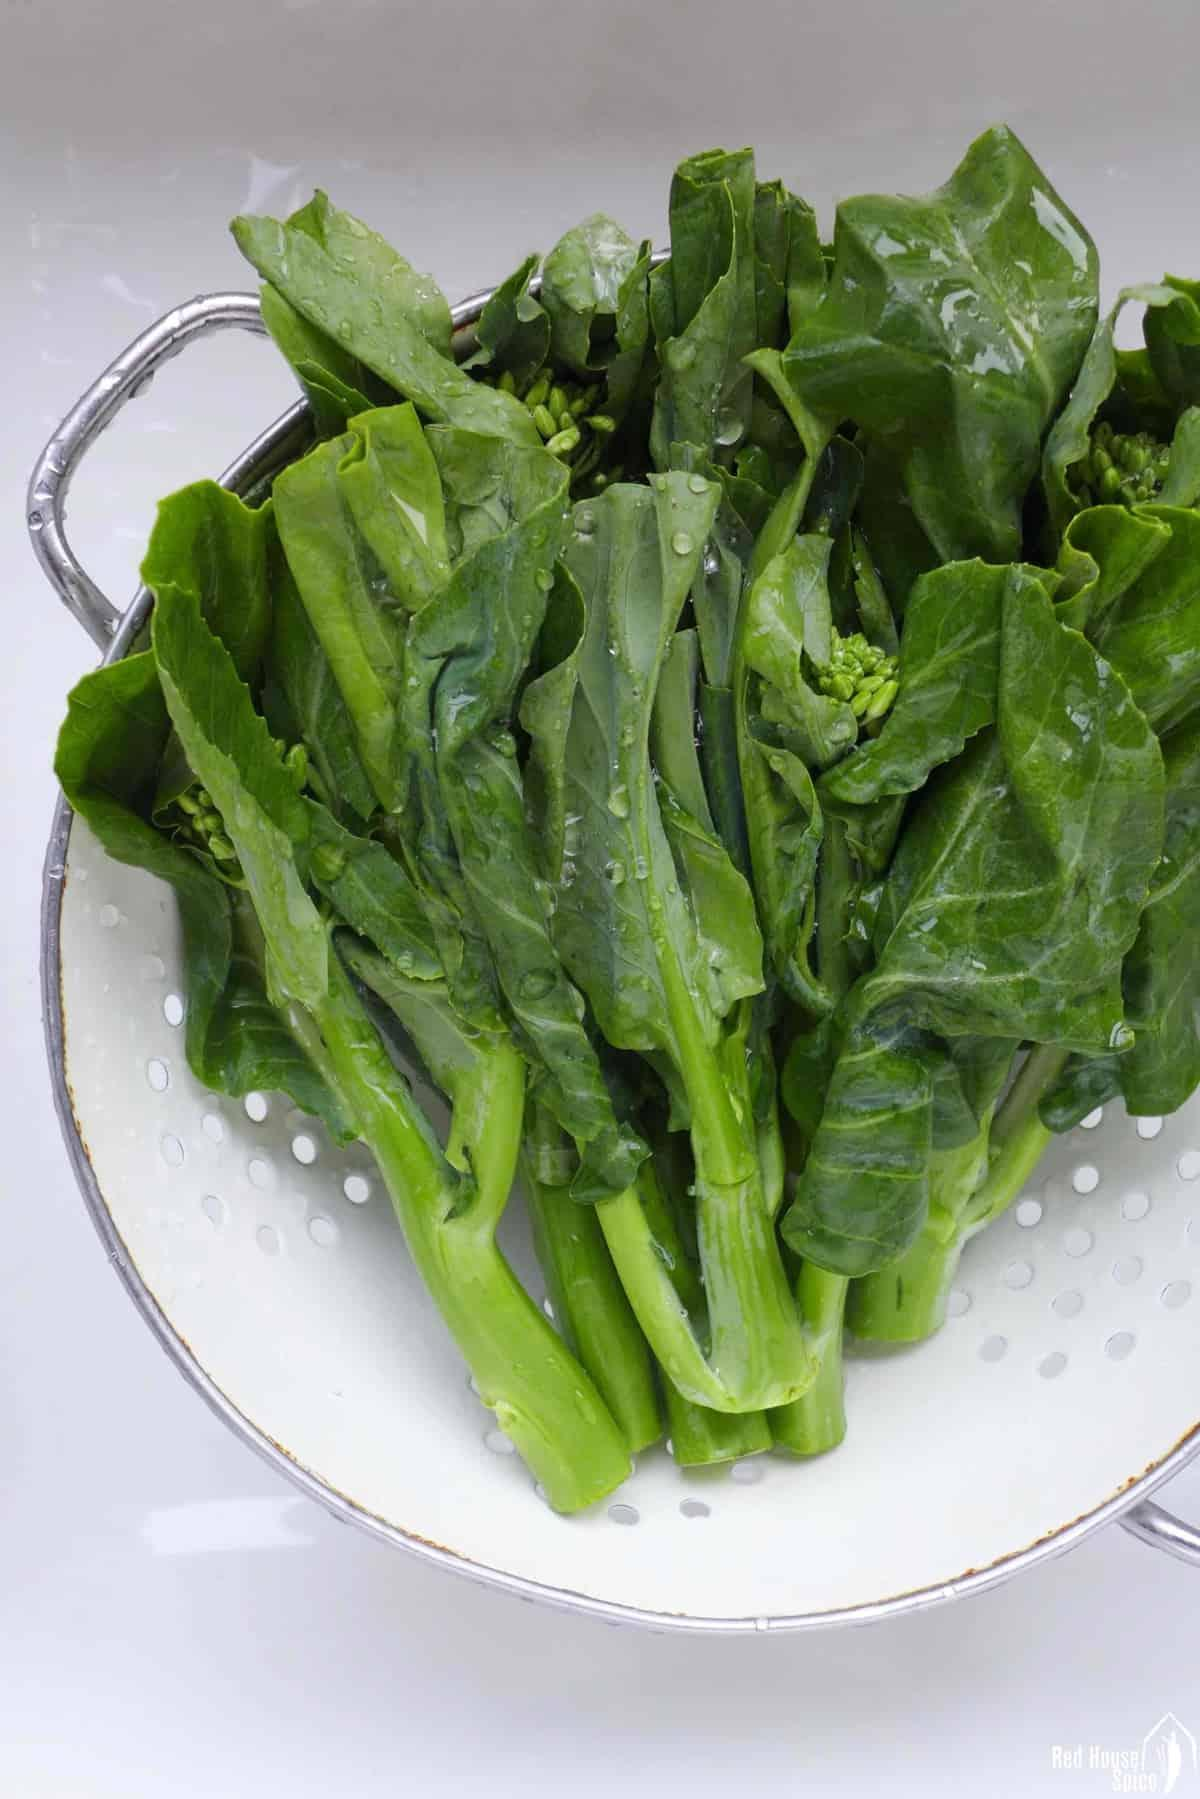Healthy-Pechay: (173, 505, 1200, 1045), (329, 1083, 1027, 1443), (770, 183, 1094, 630)
